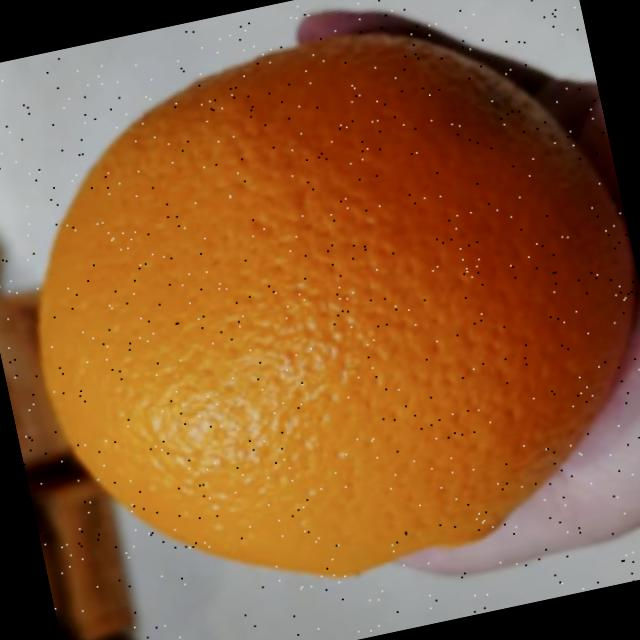orange: (0, 0, 640, 618)
